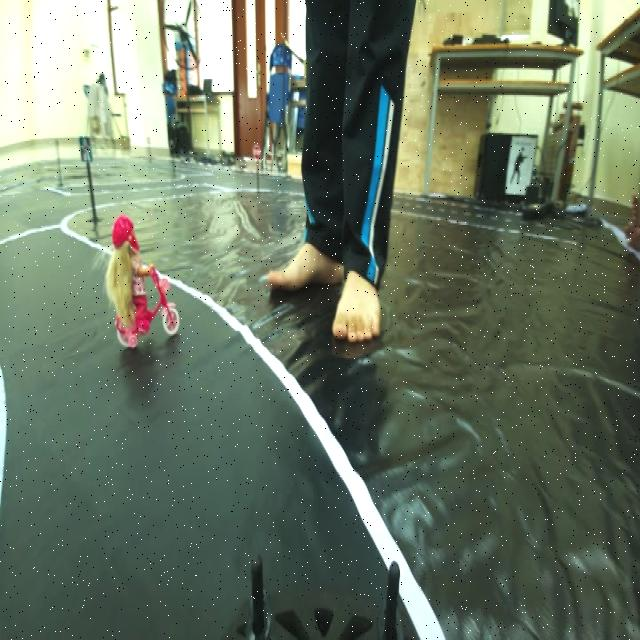pedestrian: (95, 218, 192, 352)
